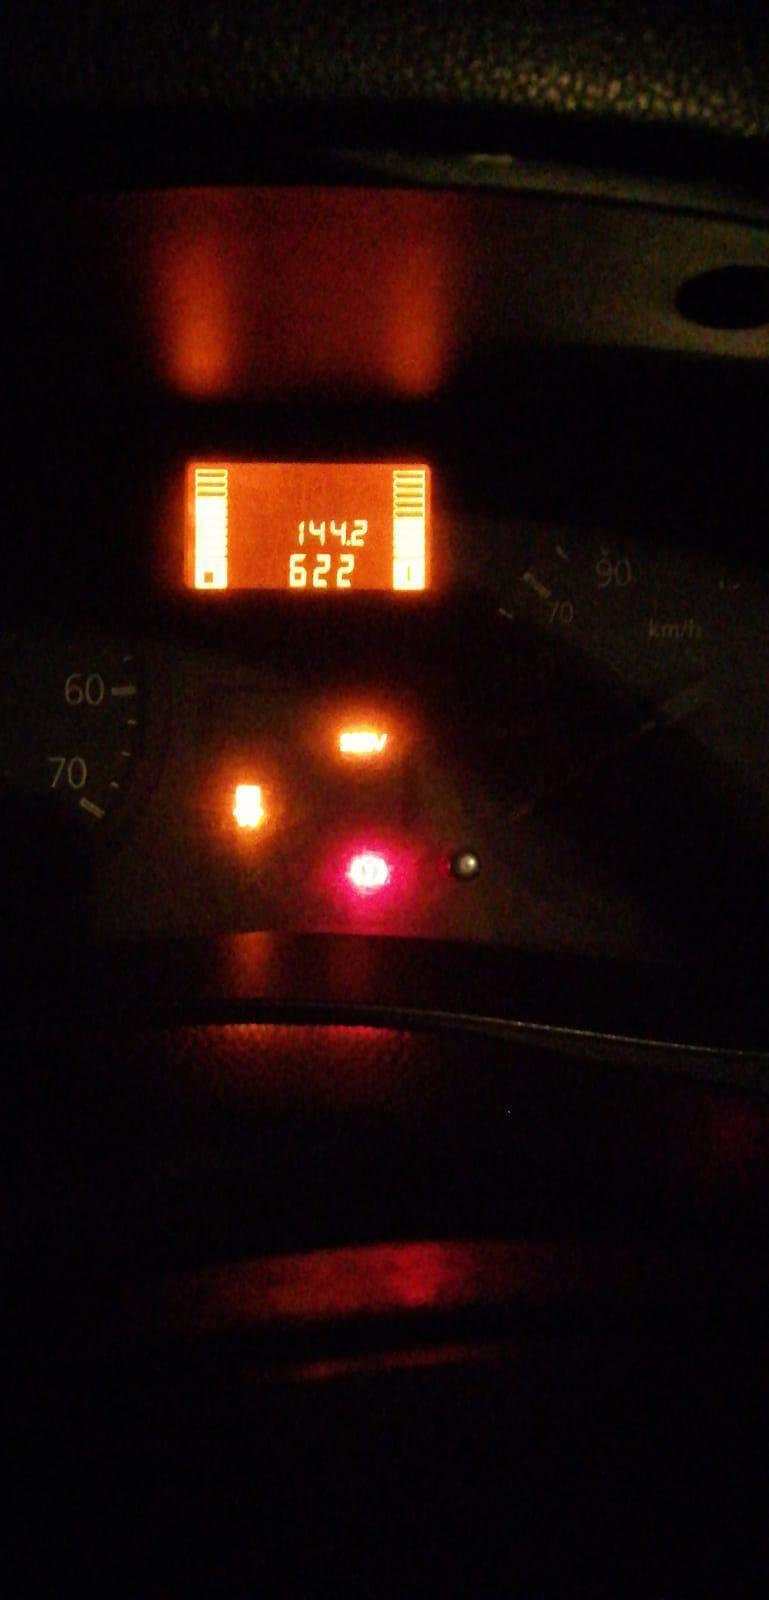,: (345, 539, 351, 546)
1: (297, 520, 305, 546)
2: (312, 552, 331, 588), (336, 553, 355, 588), (350, 519, 369, 547)
4: (307, 519, 326, 547), (329, 519, 346, 546)
6: (288, 553, 308, 588)
odometer: (178, 457, 435, 596)
